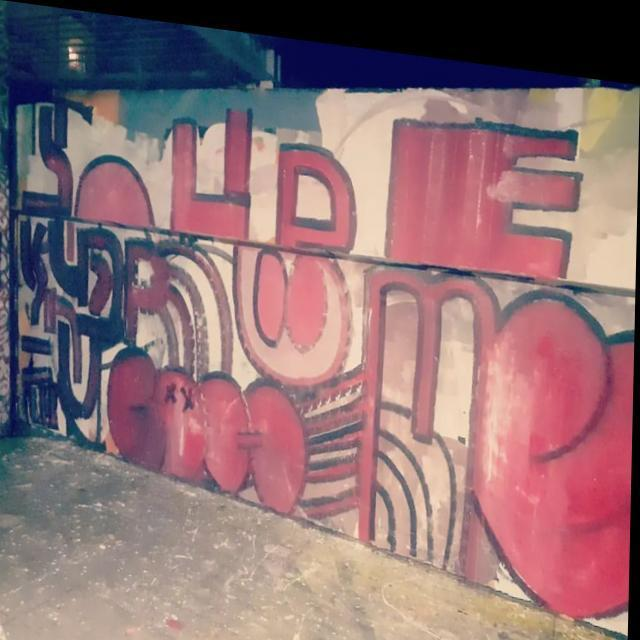-: (6, 70, 638, 618)
